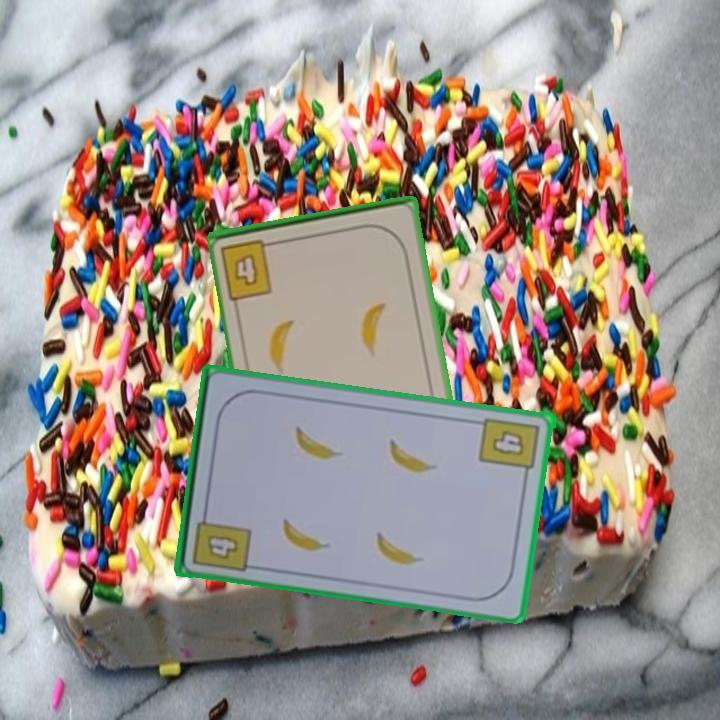4b: (217, 235, 283, 303), (477, 414, 543, 482), (203, 530, 243, 562)
